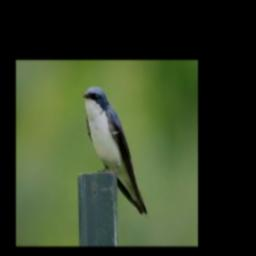Swallow: (81, 87, 148, 215)
